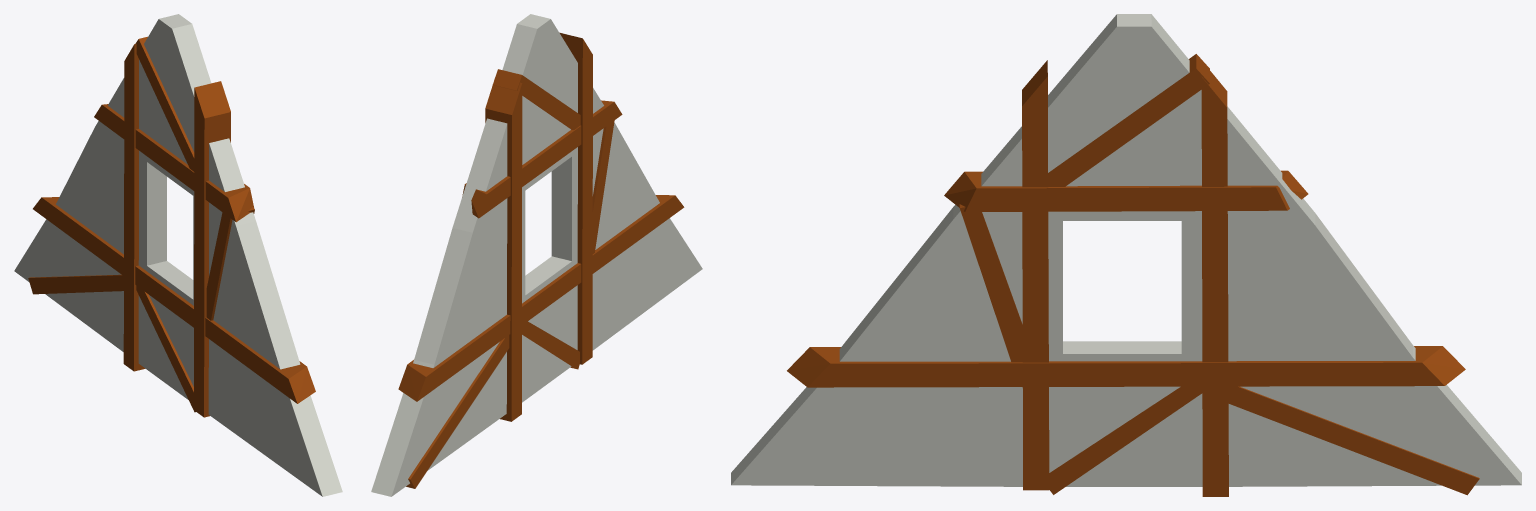
The model's file is NormalRoofWallWindowed3.fbx.
3 views of the same model, side by side, from view 1: azimuth 30°, elevation 25°; view 2: azimuth 150°, elevation 25°; view 3: azimuth 270°, elevation 25° (orthographic). The views are drawn at different scales.
Visible parts, largest first — view 1: ShortWall.029; view 2: ShortWall.029; view 3: ShortWall.029.
Boxes of the visible parts, x1,y1,x2,y2 form: ShortWall.029: [14, 14, 342, 496]; ShortWall.029: [371, 14, 702, 496]; ShortWall.029: [731, 14, 1521, 496].
Size of the model in its own units: 104 by 1304 by 1993.
